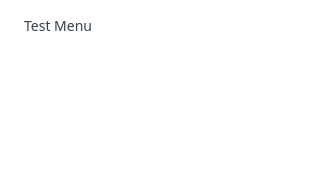
it: DropdownMenu › opens dropdown when trigger is clicked
Click the button "Test Menu" at [58, 26], box [12,12,104,40]
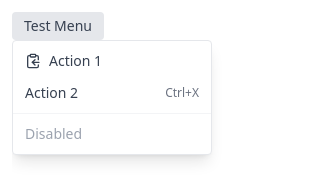
Now the text "Action 1" is shown, box [49,51,102,70]
Now the text "Action 2" is shown, box [25,83,78,102]
